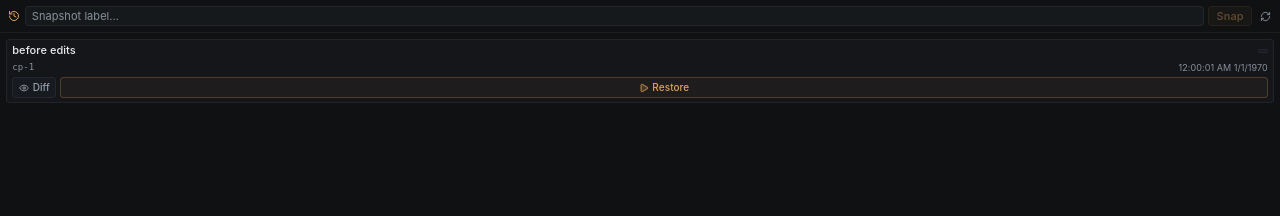
CheckpointsPane diff badges › renders added/modified/removed badges with visible text and aria labels
Check: the text "before edits" is shown, box top-left (12, 43), bottom-right (76, 57)
Step 1. Click the button titled "View diff" → (34, 88), box top-left (12, 77), bottom-right (56, 98)
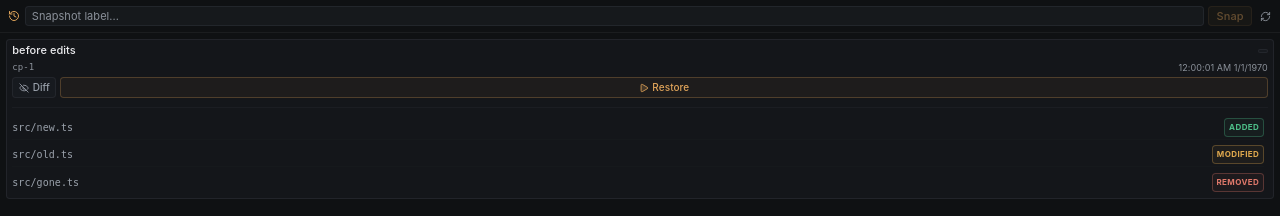
Check: the text named "added: src/new.ts" reads "added", box top-left (1229, 122), bottom-right (1259, 132)
Check: the text named "modified: src/old.ts" reads "modified", box top-left (1217, 149), bottom-right (1259, 159)
Check: the text named "removed: src/gone.ts" reads "removed", box top-left (1216, 177), bottom-right (1259, 187)
